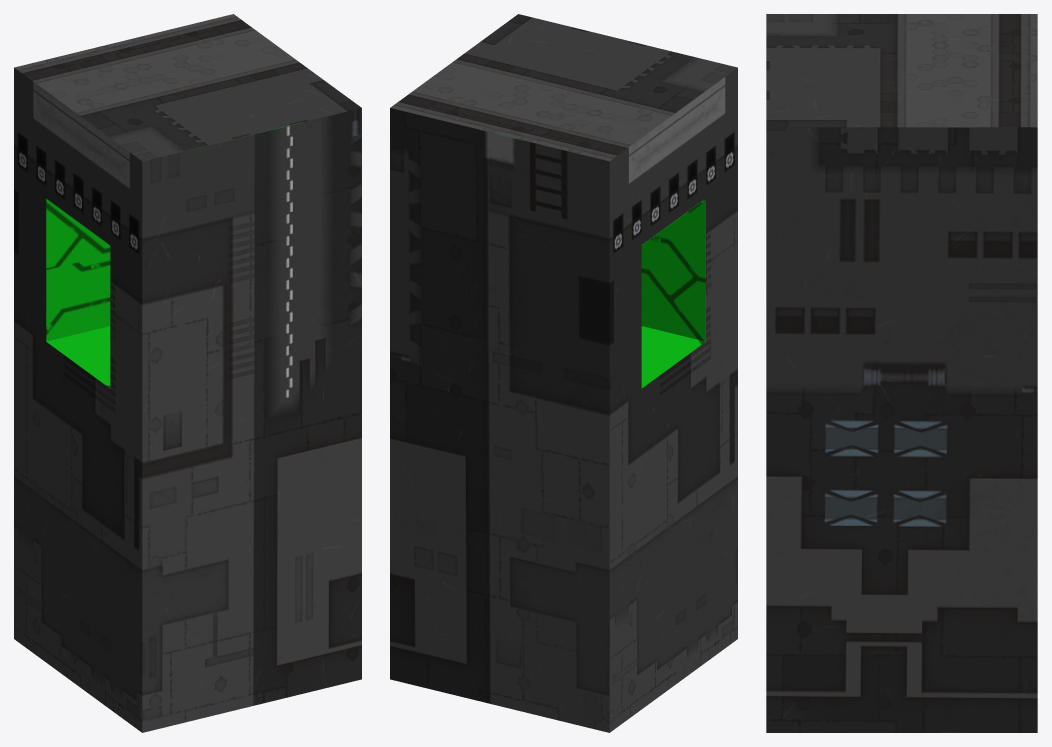
File: SeedCarrier.glb
3 renders of one model, left to right at view 1: azimuth 30°, elevation 25°; view 2: azimuth 150°, elevation 25°; view 3: azimuth 270°, elevation 25°, orthographic. The views are drawn at different scales.
Visible parts, largest first — view 1: CryoSeedCarrier; view 2: CryoSeedCarrier; view 3: CryoSeedCarrier.
Part boxes in pixels (bbox=[...]): CryoSeedCarrier: bbox=[14, 14, 361, 732]; CryoSeedCarrier: bbox=[390, 14, 737, 732]; CryoSeedCarrier: bbox=[766, 14, 1037, 732].
Size of the model in its own units: 3.27 by 8.14 by 3.31.
1 material, 1 textured.
